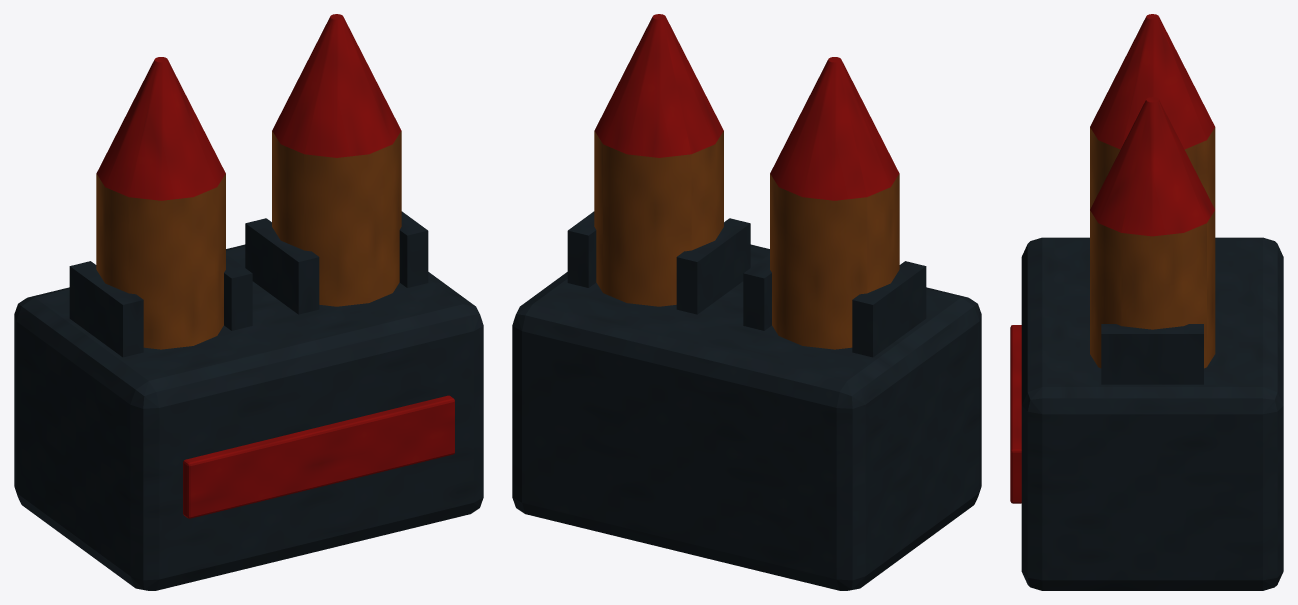
Rendered from rocket_box.glb.
The picture shows the model from 3 angles, left to right: view 1: azimuth 30°, elevation 25°; view 2: azimuth 150°, elevation 25°; view 3: azimuth 270°, elevation 25°; orthographic projection. The views are drawn at different scales.
Parts seen in each view (by area): view 1: rocket_box; view 2: rocket_box; view 3: rocket_box.
Part boxes in pixels (x1=…): rocket_box: x1=14, y1=14, x2=483, y2=590; rocket_box: x1=512, y1=14, x2=981, y2=590; rocket_box: x1=1010, y1=14, x2=1283, y2=590.
Bounding box in the file's own units: 0.42 × 0.54 × 0.292.
3 materials, 3 textured.
